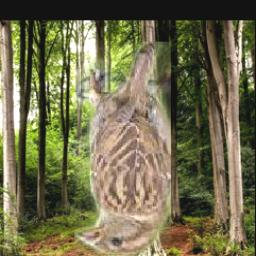Sparrow: (75, 42, 172, 256)
